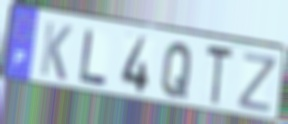4: (118, 33, 151, 96)
K: (38, 19, 74, 84)
L: (78, 26, 110, 87)
Q: (159, 41, 195, 101)
T: (205, 42, 236, 109)
Z: (235, 50, 280, 115)
